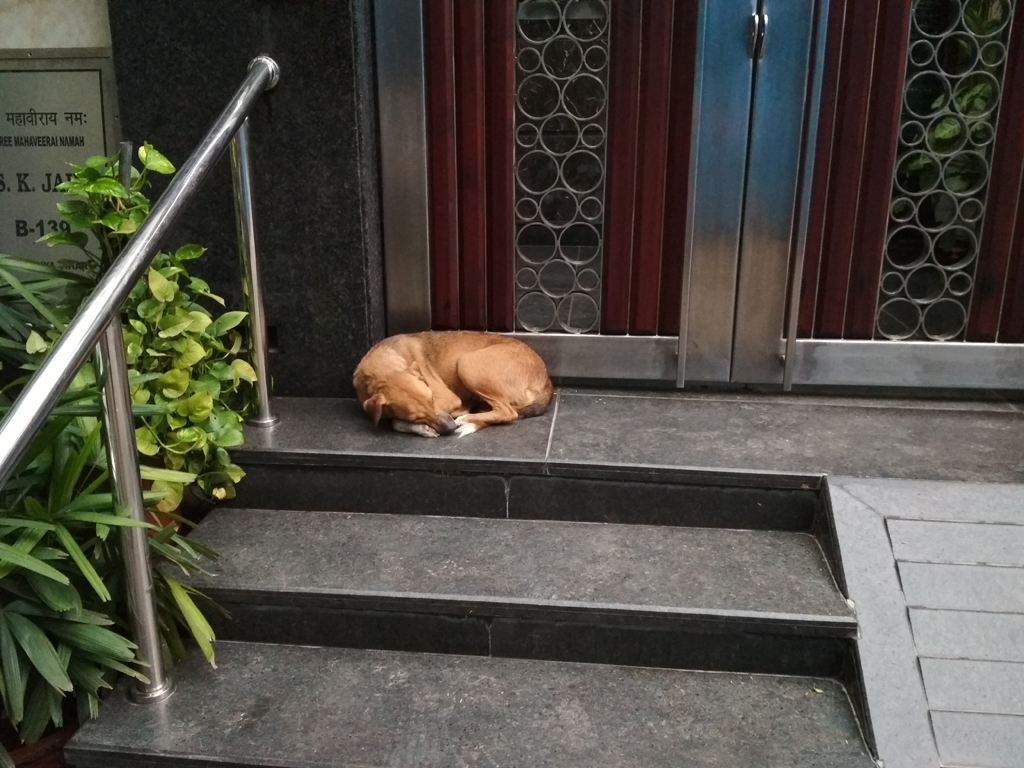dog: (353, 331, 555, 439)
